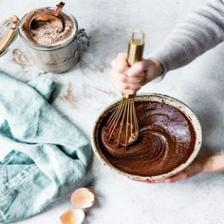brown: (94, 96, 201, 180)
